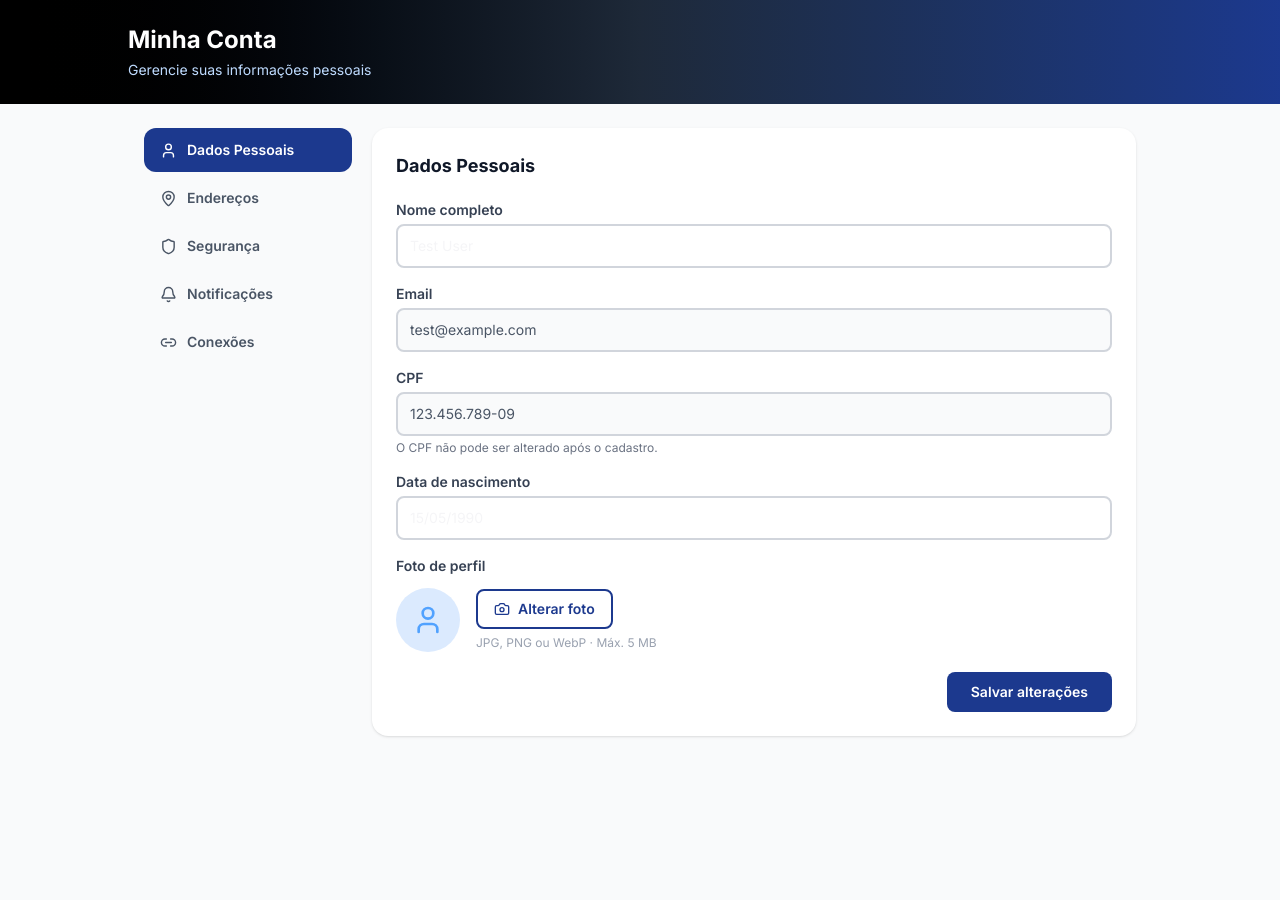
AccountPage - Dados Pessoais › shows error when form is submitted with empty full name
This screenshot has width=1280, height=900.
Clear the field showing "Test User" below "Nome completo" at [754, 246], box [396, 224, 1112, 268]
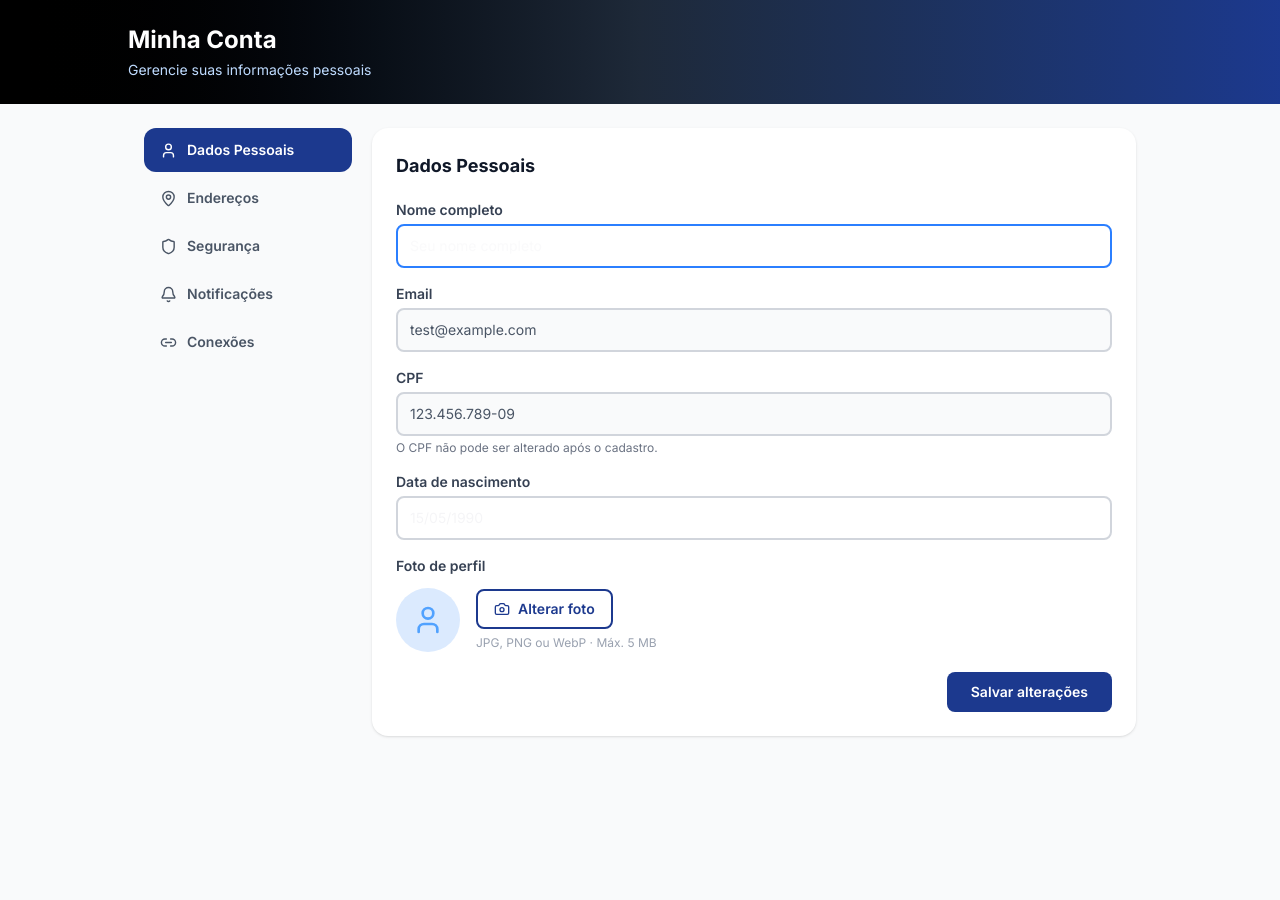
Click the button "Salvar alterações" at [1029, 692], box [947, 672, 1112, 712]
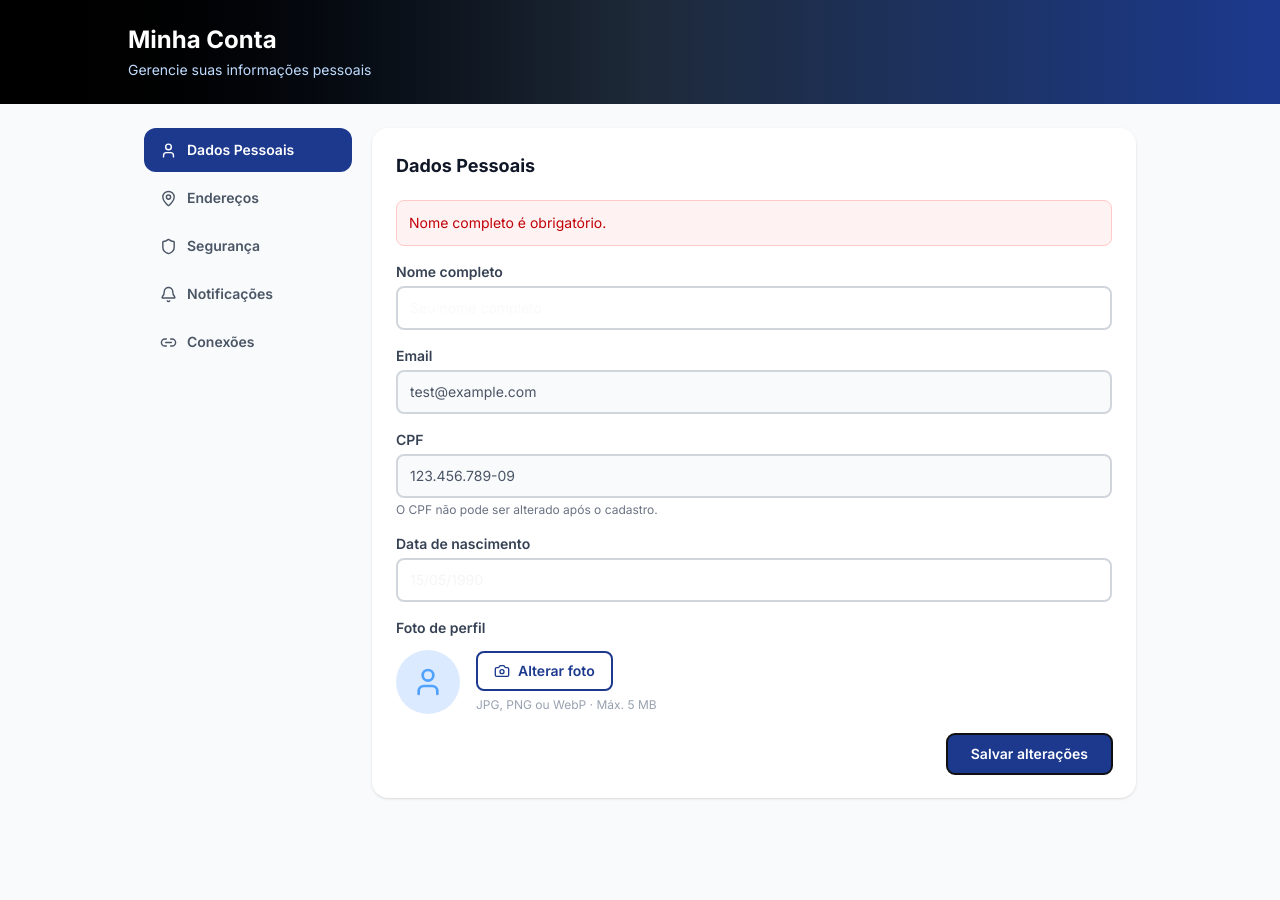
Result: the text "Nome completo é obrigatório." is shown at [396, 200, 1112, 246]
